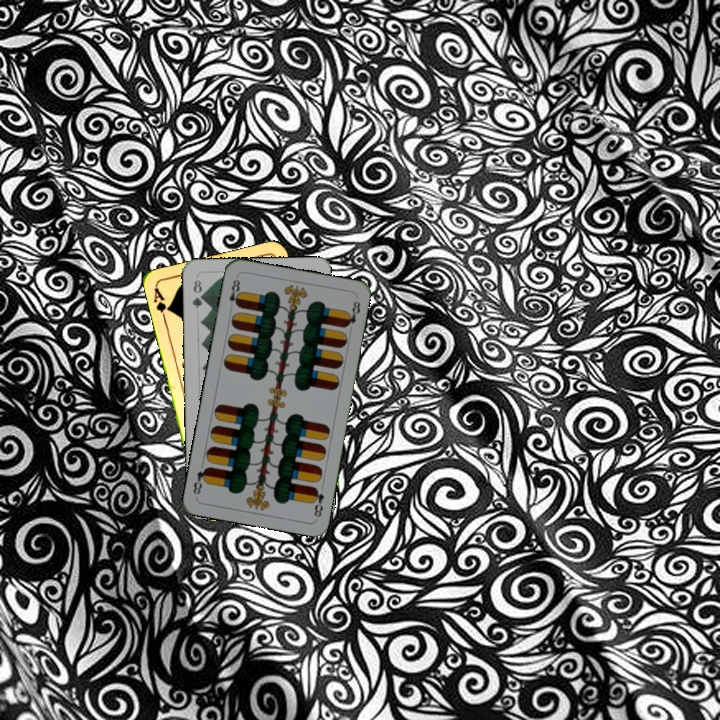E8: (225, 273, 244, 313), (308, 483, 327, 520)
G8: (188, 276, 206, 311)
GA: (150, 284, 173, 324)
